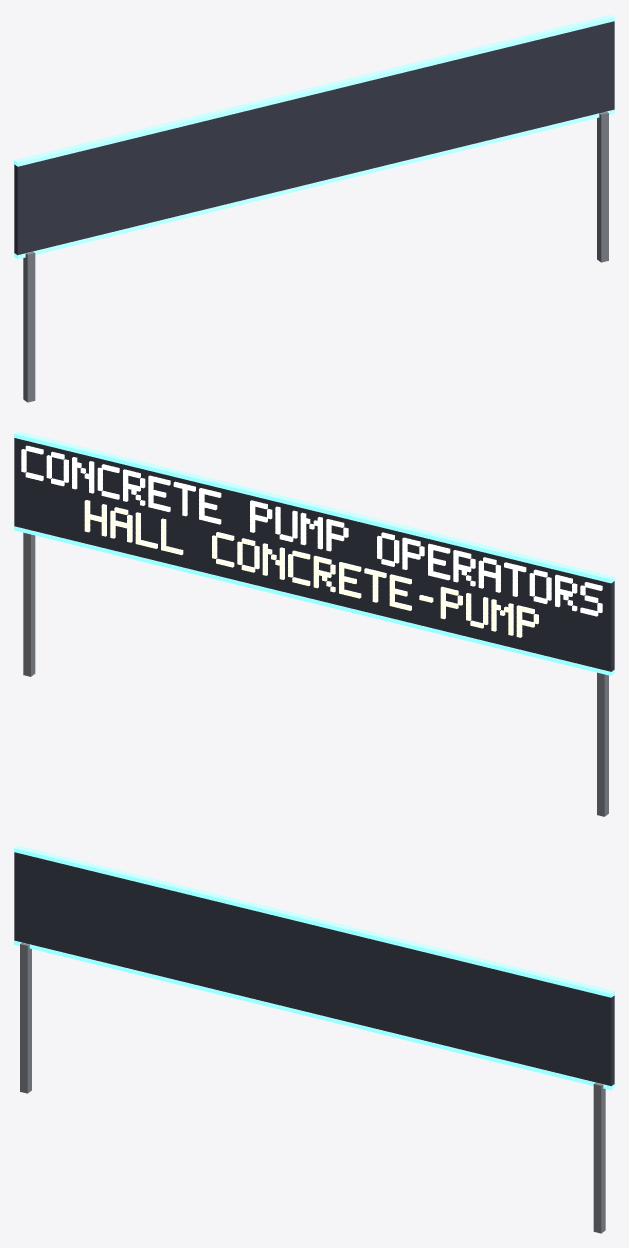
The model's file is wing-sign-hall-concrete-pump.glb.
3 views of the same model, one above another, from view 1: azimuth 30°, elevation 25°; view 2: azimuth 150°, elevation 25°; view 3: azimuth 330°, elevation 25° (orthographic).
Visible parts, largest first — view 1: Sign · Concrete Pump Operators; view 2: Sign · Concrete Pump Operators; view 3: Sign · Concrete Pump Operators.
Boxes of the visible parts, x1=… form: Sign · Concrete Pump Operators: x1=14, y1=14, x2=614, y2=402; Sign · Concrete Pump Operators: x1=14, y1=431, x2=614, y2=816; Sign · Concrete Pump Operators: x1=14, y1=845, x2=614, y2=1233.
Size of the model in its own units: 12.69 by 4.88 by 0.254.
